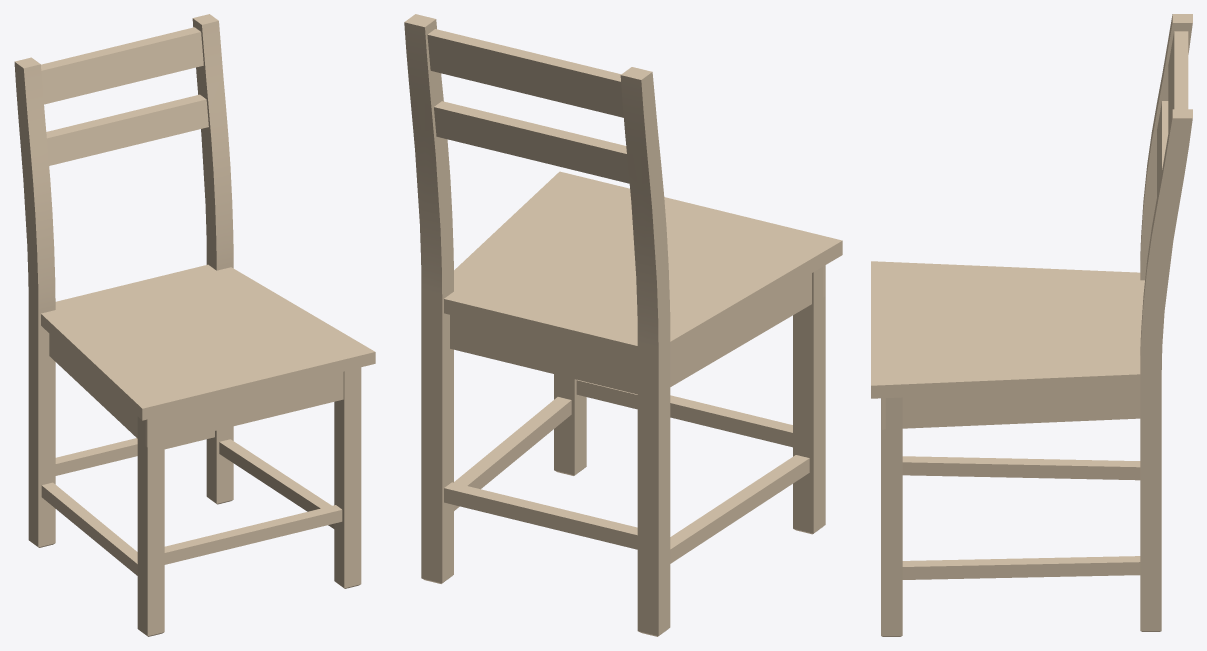
File: 587_ダイニングチェア.glb
3 views of the same model, side by side, from view 1: azimuth 30°, elevation 25°; view 2: azimuth 150°, elevation 25°; view 3: azimuth 270°, elevation 25° (orthographic). The views are drawn at different scales.
Parts seen in each view (by area): view 1: Body; view 2: Body; view 3: Body.
Boxes of the visible parts, left/top/right/bottom form: Body: left=14, top=14, right=375, bottom=636; Body: left=404, top=14, right=842, bottom=636; Body: left=871, top=14, right=1192, bottom=636.
Bounding box in the file's own units: 0.41 × 0.79 × 0.4475.
